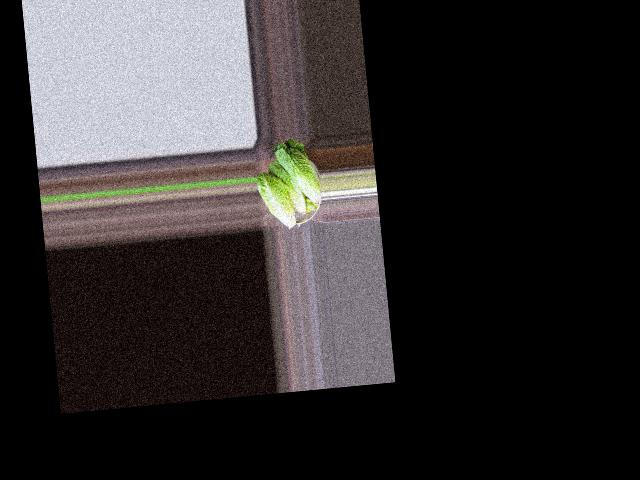lettuce: (272, 138, 322, 213)
